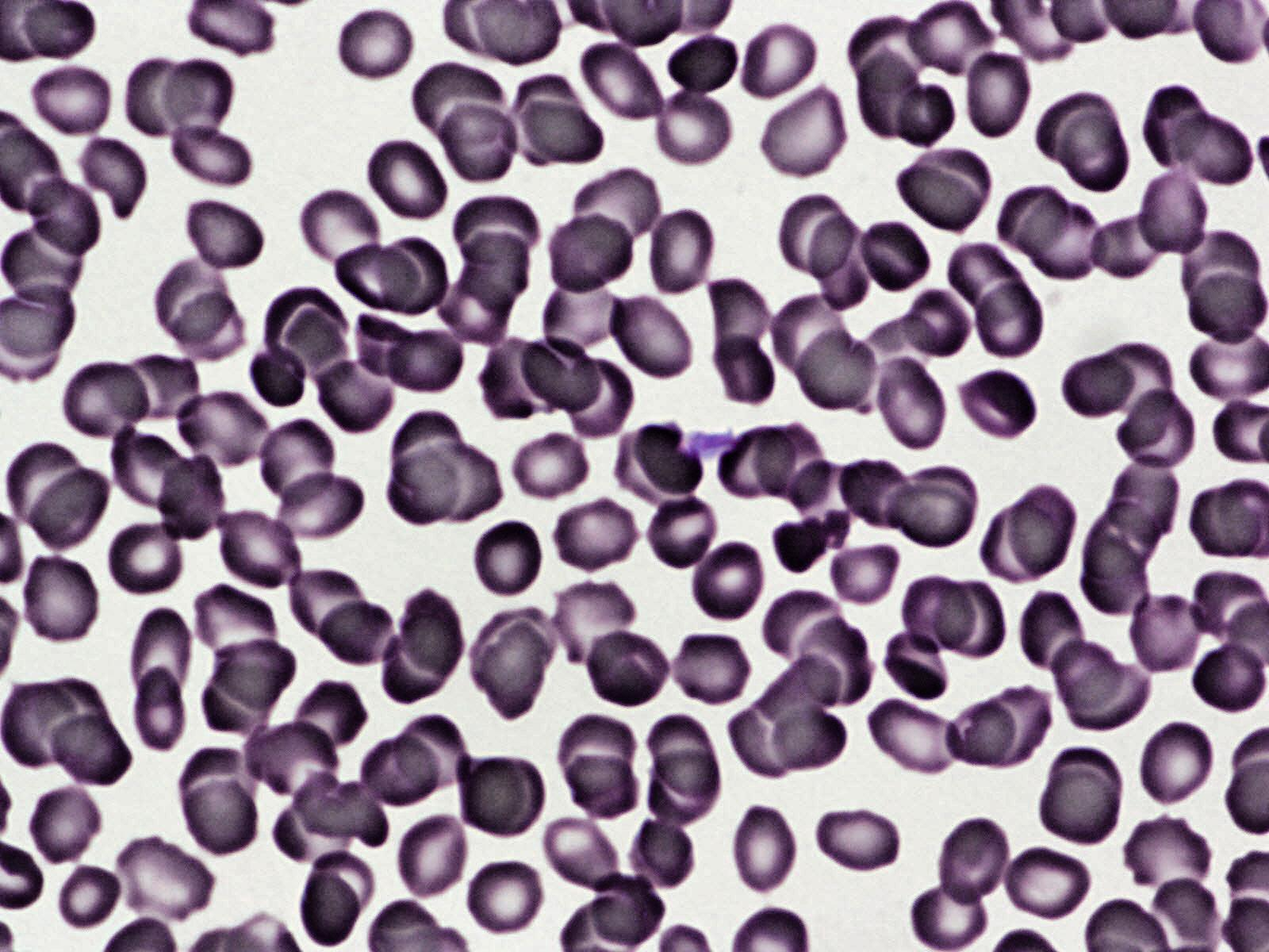Uninfected: (471, 606, 560, 720), (111, 834, 213, 928), (758, 81, 849, 183), (1037, 743, 1123, 850), (895, 144, 995, 236), (546, 578, 639, 676), (171, 388, 274, 474), (609, 423, 704, 515), (395, 444, 504, 524), (242, 717, 339, 804), (577, 38, 672, 125), (58, 358, 155, 443), (604, 292, 695, 382), (885, 468, 980, 554), (869, 353, 949, 455), (455, 753, 546, 842), (865, 701, 968, 779), (571, 167, 663, 254), (18, 551, 100, 648), (108, 422, 197, 511), (257, 417, 339, 512), (191, 583, 281, 669), (481, 330, 567, 420), (1121, 816, 1213, 900), (378, 615, 460, 709), (363, 136, 450, 224), (548, 210, 637, 296), (413, 62, 504, 145), (1000, 843, 1092, 925), (540, 811, 630, 894), (904, 0, 998, 79), (504, 71, 581, 167), (583, 626, 672, 709), (937, 813, 1014, 908), (0, 216, 86, 301), (290, 774, 390, 847), (151, 253, 232, 343), (1136, 717, 1216, 808), (945, 236, 1028, 323), (105, 349, 202, 423), (217, 507, 301, 592), (765, 293, 852, 375), (550, 493, 638, 574), (959, 44, 1033, 140), (1136, 167, 1212, 260), (796, 615, 872, 708), (6, 442, 87, 529), (756, 649, 846, 727), (642, 209, 720, 298), (966, 688, 1051, 769), (1024, 202, 1110, 282), (688, 539, 768, 624), (734, 27, 820, 106), (24, 172, 102, 259), (394, 810, 469, 900), (464, 857, 546, 939), (1016, 591, 1093, 678), (811, 209, 877, 310), (1129, 590, 1208, 674), (1166, 109, 1252, 186), (334, 1, 415, 82), (669, 630, 751, 710), (437, 100, 517, 182), (29, 470, 114, 547), (27, 781, 102, 868), (846, 11, 934, 85), (796, 328, 876, 409), (520, 334, 602, 413), (30, 63, 113, 141), (2, 682, 80, 765), (728, 804, 799, 895), (775, 190, 850, 276), (857, 44, 923, 141), (555, 712, 634, 793), (1120, 388, 1198, 470), (314, 359, 397, 436), (74, 132, 145, 222), (758, 419, 829, 509), (899, 574, 979, 653), (214, 635, 297, 711), (31, 677, 114, 753), (297, 188, 381, 263), (560, 355, 634, 440), (1090, 346, 1175, 420), (393, 409, 466, 495), (182, 194, 262, 272), (370, 236, 450, 314), (1113, 451, 1180, 544), (334, 244, 423, 314), (159, 60, 234, 143), (1083, 502, 1158, 585), (263, 289, 347, 363), (622, 810, 695, 895), (649, 746, 722, 831), (1034, 91, 1120, 163), (653, 88, 731, 167), (981, 504, 1057, 585), (542, 276, 623, 352), (470, 516, 543, 600), (458, 232, 531, 316), (856, 314, 936, 390), (815, 804, 899, 876), (275, 470, 362, 539), (1068, 662, 1155, 731), (186, 776, 261, 856), (178, 744, 259, 818), (932, 577, 1006, 658), (765, 589, 846, 663), (121, 54, 194, 136), (957, 368, 1036, 443), (1187, 270, 1267, 344), (1010, 484, 1075, 575), (769, 501, 853, 571), (1181, 230, 1259, 305), (645, 491, 719, 570), (880, 625, 953, 705), (51, 716, 132, 788), (645, 716, 716, 798), (159, 451, 225, 539), (720, 423, 796, 499), (853, 219, 931, 293), (358, 736, 437, 809), (430, 275, 511, 346), (1060, 110, 1128, 194), (107, 522, 182, 598), (397, 713, 470, 791), (1145, 83, 1211, 169), (1080, 537, 1149, 619), (130, 608, 190, 702), (172, 290, 247, 365), (292, 680, 366, 756), (1195, 643, 1268, 720), (386, 448, 458, 526), (203, 664, 281, 736), (399, 588, 462, 677), (290, 568, 365, 642), (794, 459, 870, 532), (53, 858, 125, 935), (995, 182, 1072, 254), (1153, 876, 1227, 950), (841, 455, 914, 530), (974, 279, 1044, 357), (270, 800, 351, 867), (591, 872, 664, 946), (1052, 634, 1124, 709), (386, 328, 466, 395), (285, 306, 352, 386), (707, 276, 770, 361), (562, 754, 643, 820), (826, 535, 899, 608), (1191, 570, 1267, 640), (524, 98, 605, 163), (1190, 482, 1262, 555), (1092, 212, 1166, 282), (453, 199, 539, 259), (1060, 355, 1137, 422), (171, 124, 251, 188), (773, 708, 847, 773), (513, 435, 589, 498), (727, 712, 796, 780), (317, 600, 392, 662), (711, 334, 776, 405), (946, 700, 1017, 765), (136, 666, 189, 752), (904, 286, 970, 354), (299, 872, 358, 948), (667, 35, 740, 96), (310, 849, 375, 917), (354, 314, 423, 378), (247, 341, 306, 413), (895, 82, 955, 147)
